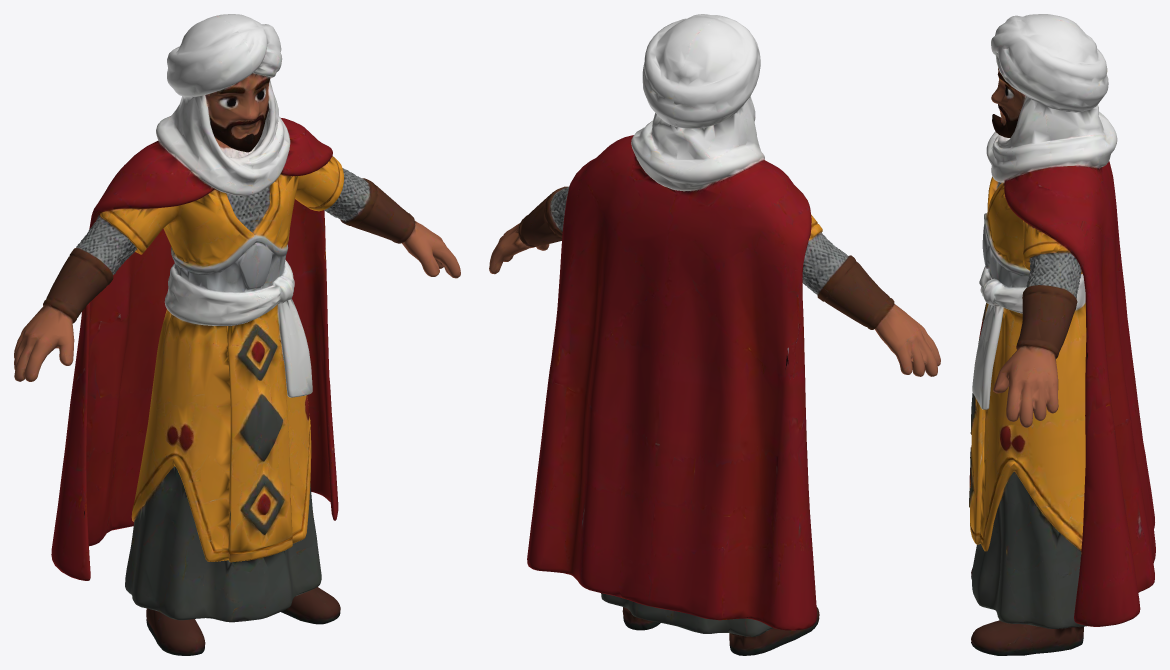
File: a3D-arabe.glb
3 renders of one model, left to right at view 1: azimuth 30°, elevation 25°; view 2: azimuth 150°, elevation 25°; view 3: azimuth 270°, elevation 25°, orthographic.
Visible parts, largest first — view 1: geometry_0; view 2: geometry_0; view 3: geometry_0.
Boxes of the visible parts, <box> form: geometry_0: <box>14,14,460,655</box>; geometry_0: <box>489,14,940,655</box>; geometry_0: <box>969,14,1155,655</box>.
Size of the model in its own units: 1.47 by 1.9 by 0.5368.
Materials: 1 (1 with a texture image).
